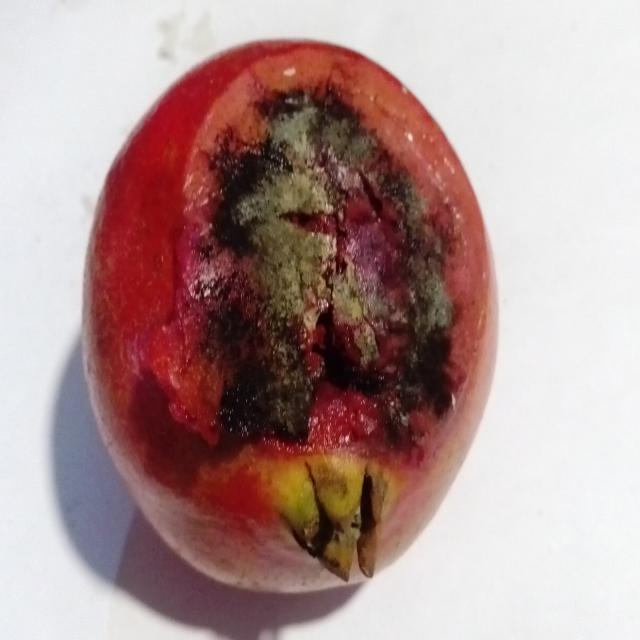Rotten: (78, 36, 500, 595)
